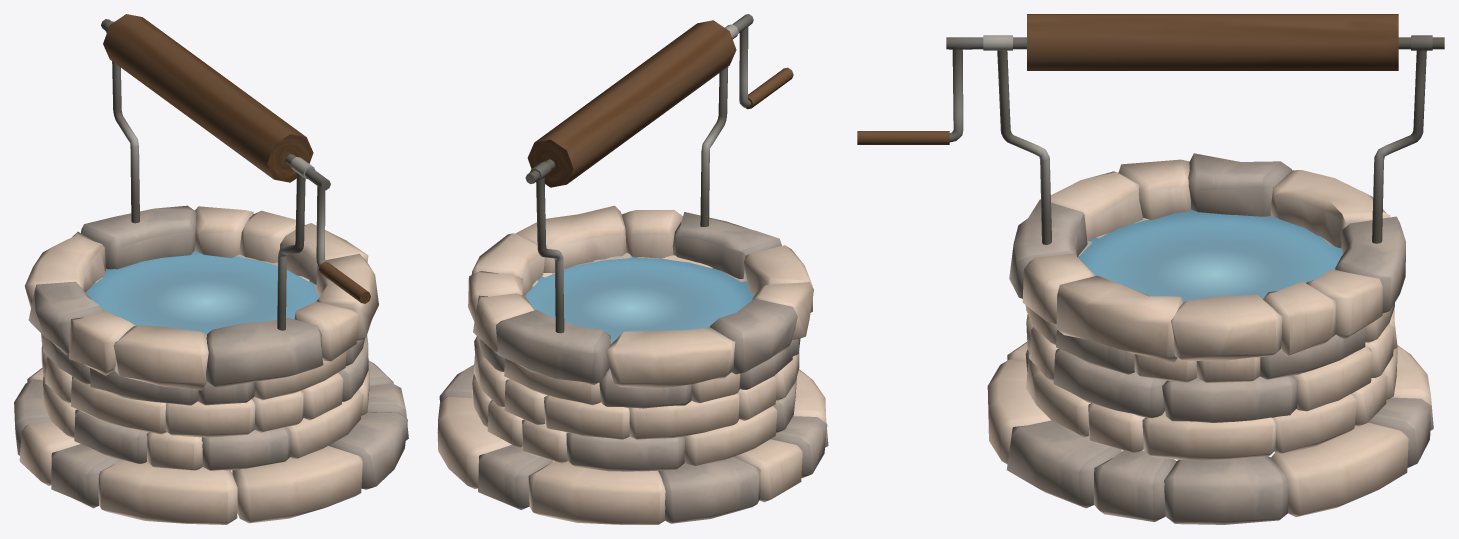
Rendered from well.fbx.
3 renders of one model, left to right at view 1: azimuth 30°, elevation 25°; view 2: azimuth 150°, elevation 25°; view 3: azimuth 270°, elevation 25°, orthographic. The views are drawn at different scales.
Parts seen in each view (by area): view 1: well; view 2: well; view 3: well.
Part boxes in pixels (x1,y1,x2,y2): well: (14,14,408,524); well: (437,14,828,524); well: (857,14,1444,524).
Size of the model in its own units: 57.61 by 60.13 by 75.88.
